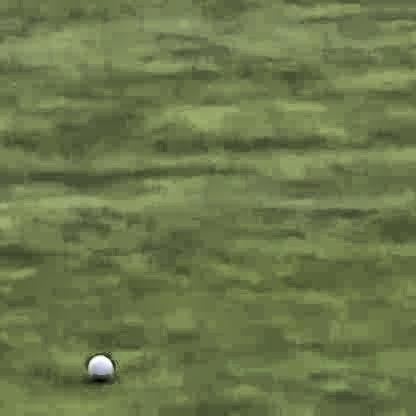golfball: (86, 348, 111, 378)
